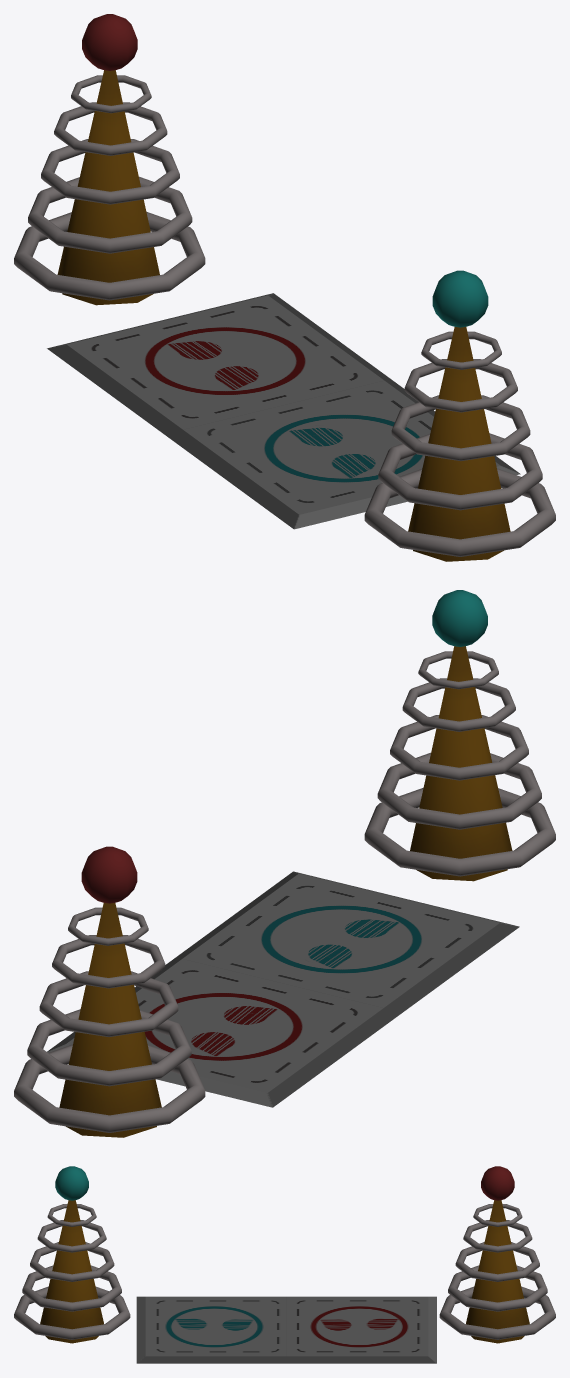
Rendered from FuenteBateria.fbx.
3 views of the same model, one above another, from view 1: azimuth 30°, elevation 25°; view 2: azimuth 150°, elevation 25°; view 3: azimuth 270°, elevation 25° (orthographic). The views are drawn at different scales.
Parts seen in each view (by area): view 1: polySurface1; view 2: polySurface1; view 3: polySurface1.
Boxes of the visible parts, x1,y1,x2,y2 form: polySurface1: (14, 14, 555, 561); polySurface1: (14, 590, 555, 1137); polySurface1: (14, 1166, 555, 1363).
Bounding box in the file's own units: 1.93 × 2.17 × 6.57.
